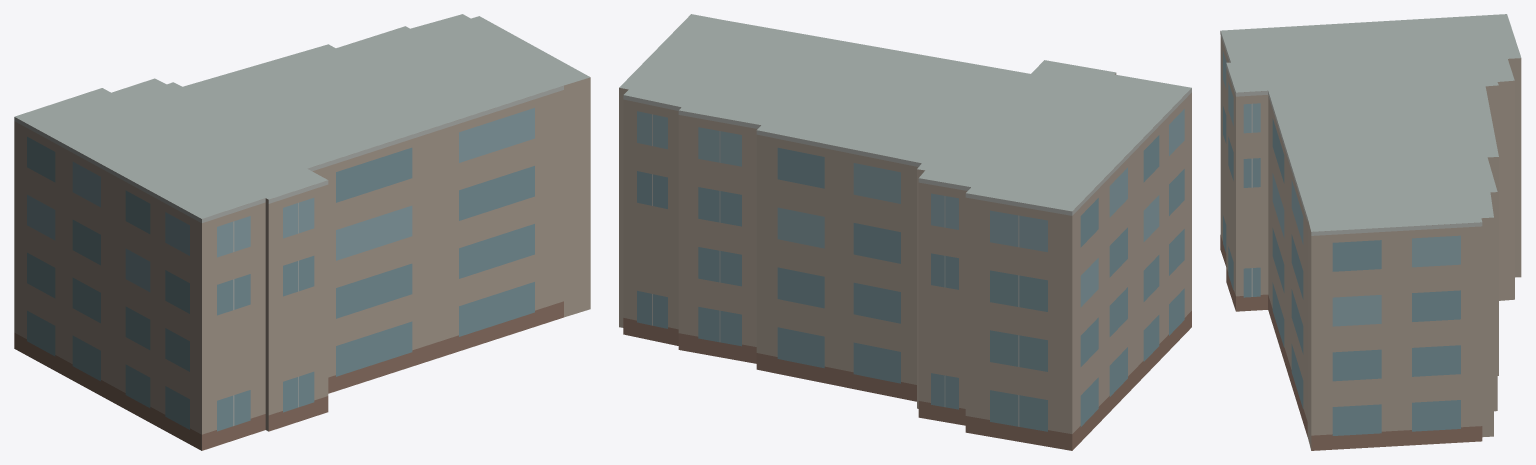
The model's file is survey-upis-32675684.glb.
3 views of the same model, side by side, from view 1: azimuth 30°, elevation 25°; view 2: azimuth 150°, elevation 25°; view 3: azimuth 270°, elevation 25° (orthographic). The views are drawn at different scales.
Visible parts, largest first — view 1: survey-upis-32675684.tmp; view 2: survey-upis-32675684.tmp; view 3: survey-upis-32675684.tmp.
Boxes of the visible parts, x1,y1,x2,y2 form: survey-upis-32675684.tmp: [14, 14, 590, 450]; survey-upis-32675684.tmp: [619, 14, 1191, 450]; survey-upis-32675684.tmp: [1220, 14, 1521, 450].
Size of the model in its own units: 27.96 by 13.1 by 16.32.
